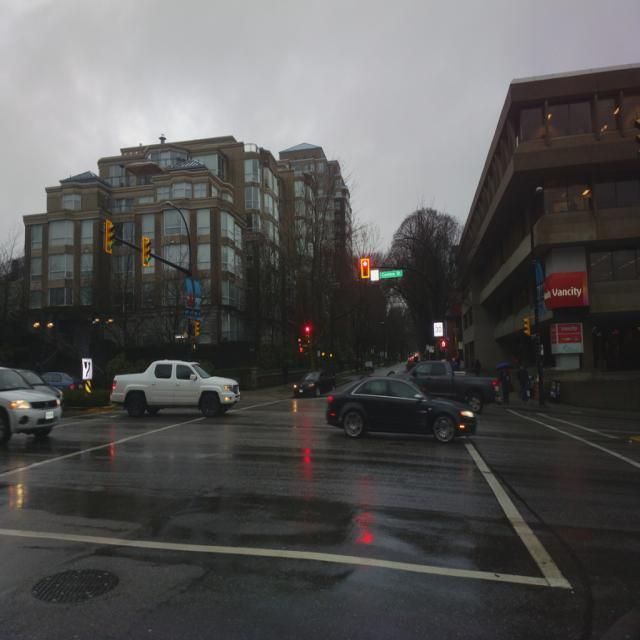traffic light: (105, 221, 117, 255), (140, 235, 152, 267), (360, 256, 371, 279)
